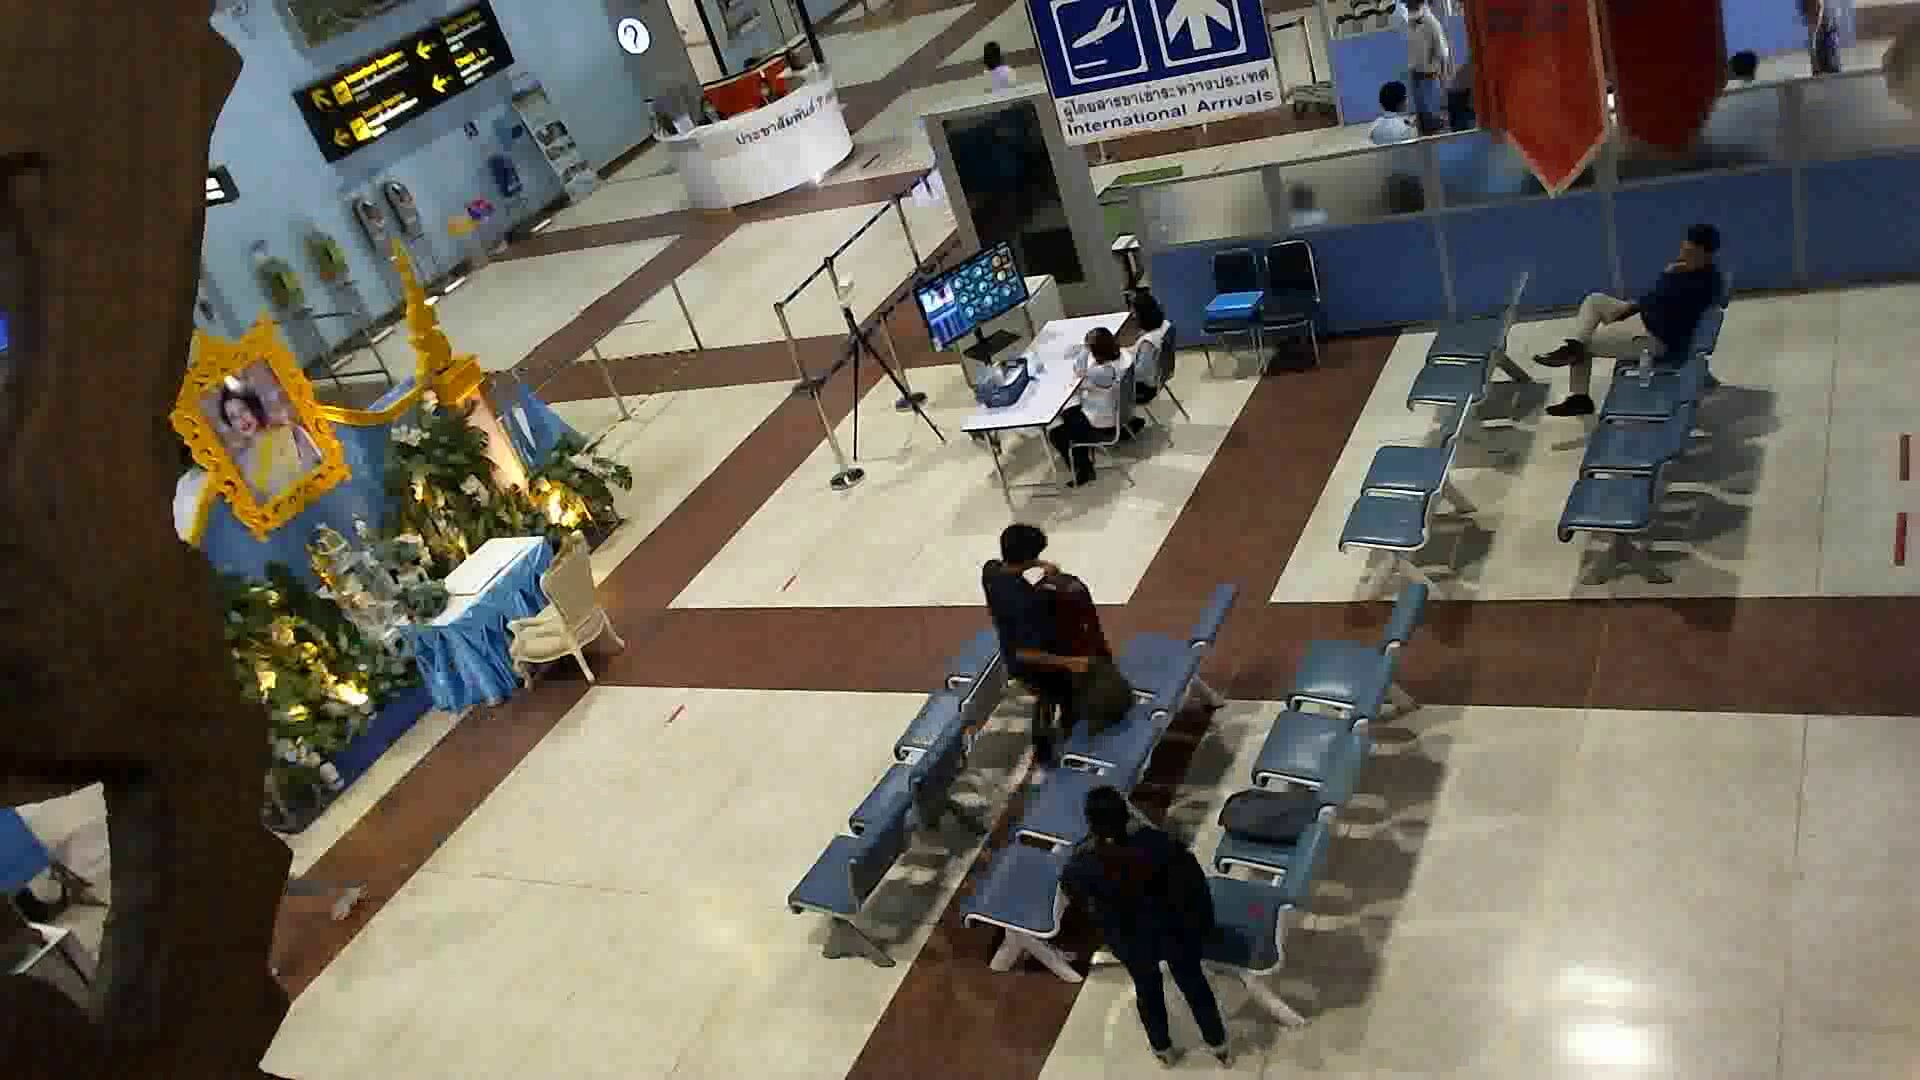backpack: (1220, 776, 1331, 855), (1068, 653, 1139, 741)
luggage: (1035, 574, 1112, 666)
people: (1056, 778, 1233, 1074), (1554, 201, 1712, 438), (974, 516, 1079, 784), (1049, 328, 1129, 490), (1118, 280, 1176, 403), (970, 41, 1024, 134)
